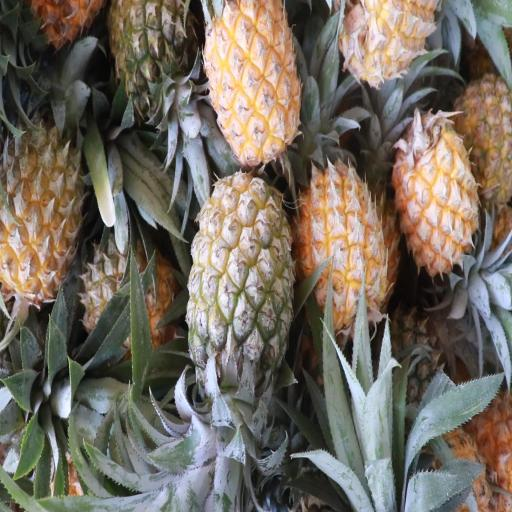------------------------------: (188, 170, 293, 390), (82, 228, 177, 354)
Pineapple - v8 v1: (0, 115, 88, 293), (208, 4, 304, 158), (394, 108, 479, 278), (301, 160, 388, 326)
